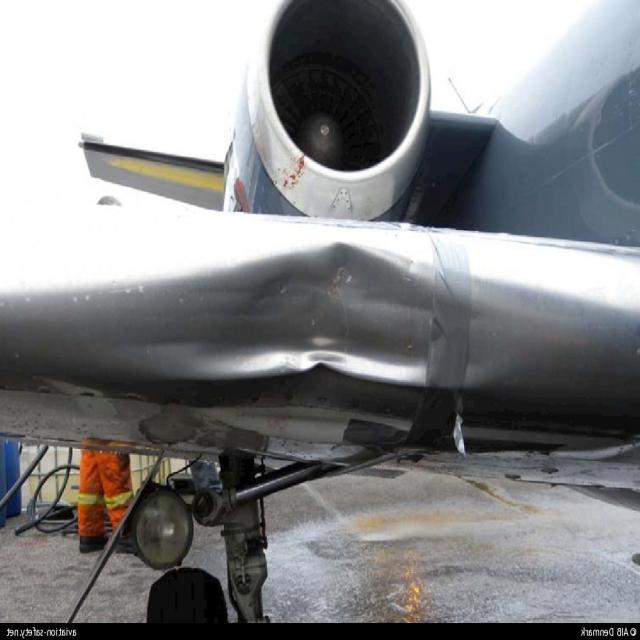dent: (126, 257, 480, 387)
